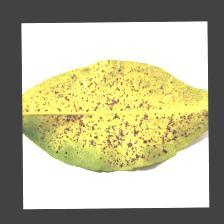canker: (48, 79, 175, 144)
